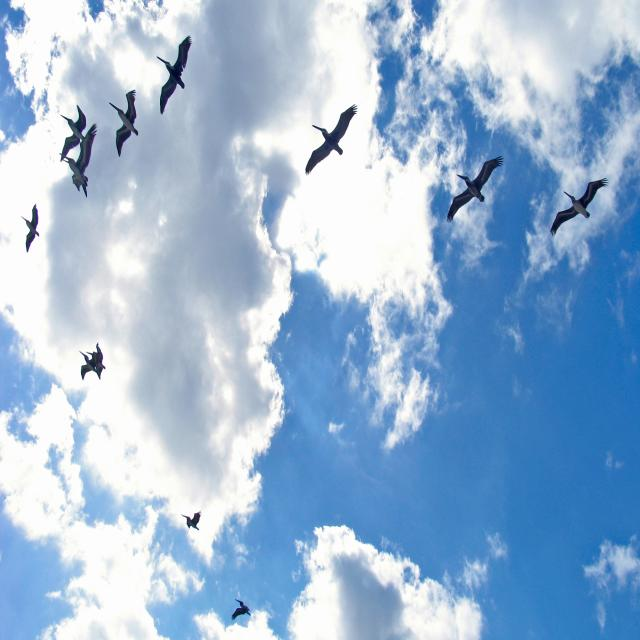bird: (547, 175, 612, 237), (305, 102, 358, 178), (448, 158, 505, 223), (59, 123, 98, 198), (156, 36, 193, 112), (111, 87, 138, 158), (52, 105, 86, 152), (77, 346, 105, 387), (20, 206, 43, 250), (183, 510, 204, 534), (229, 598, 250, 622)
